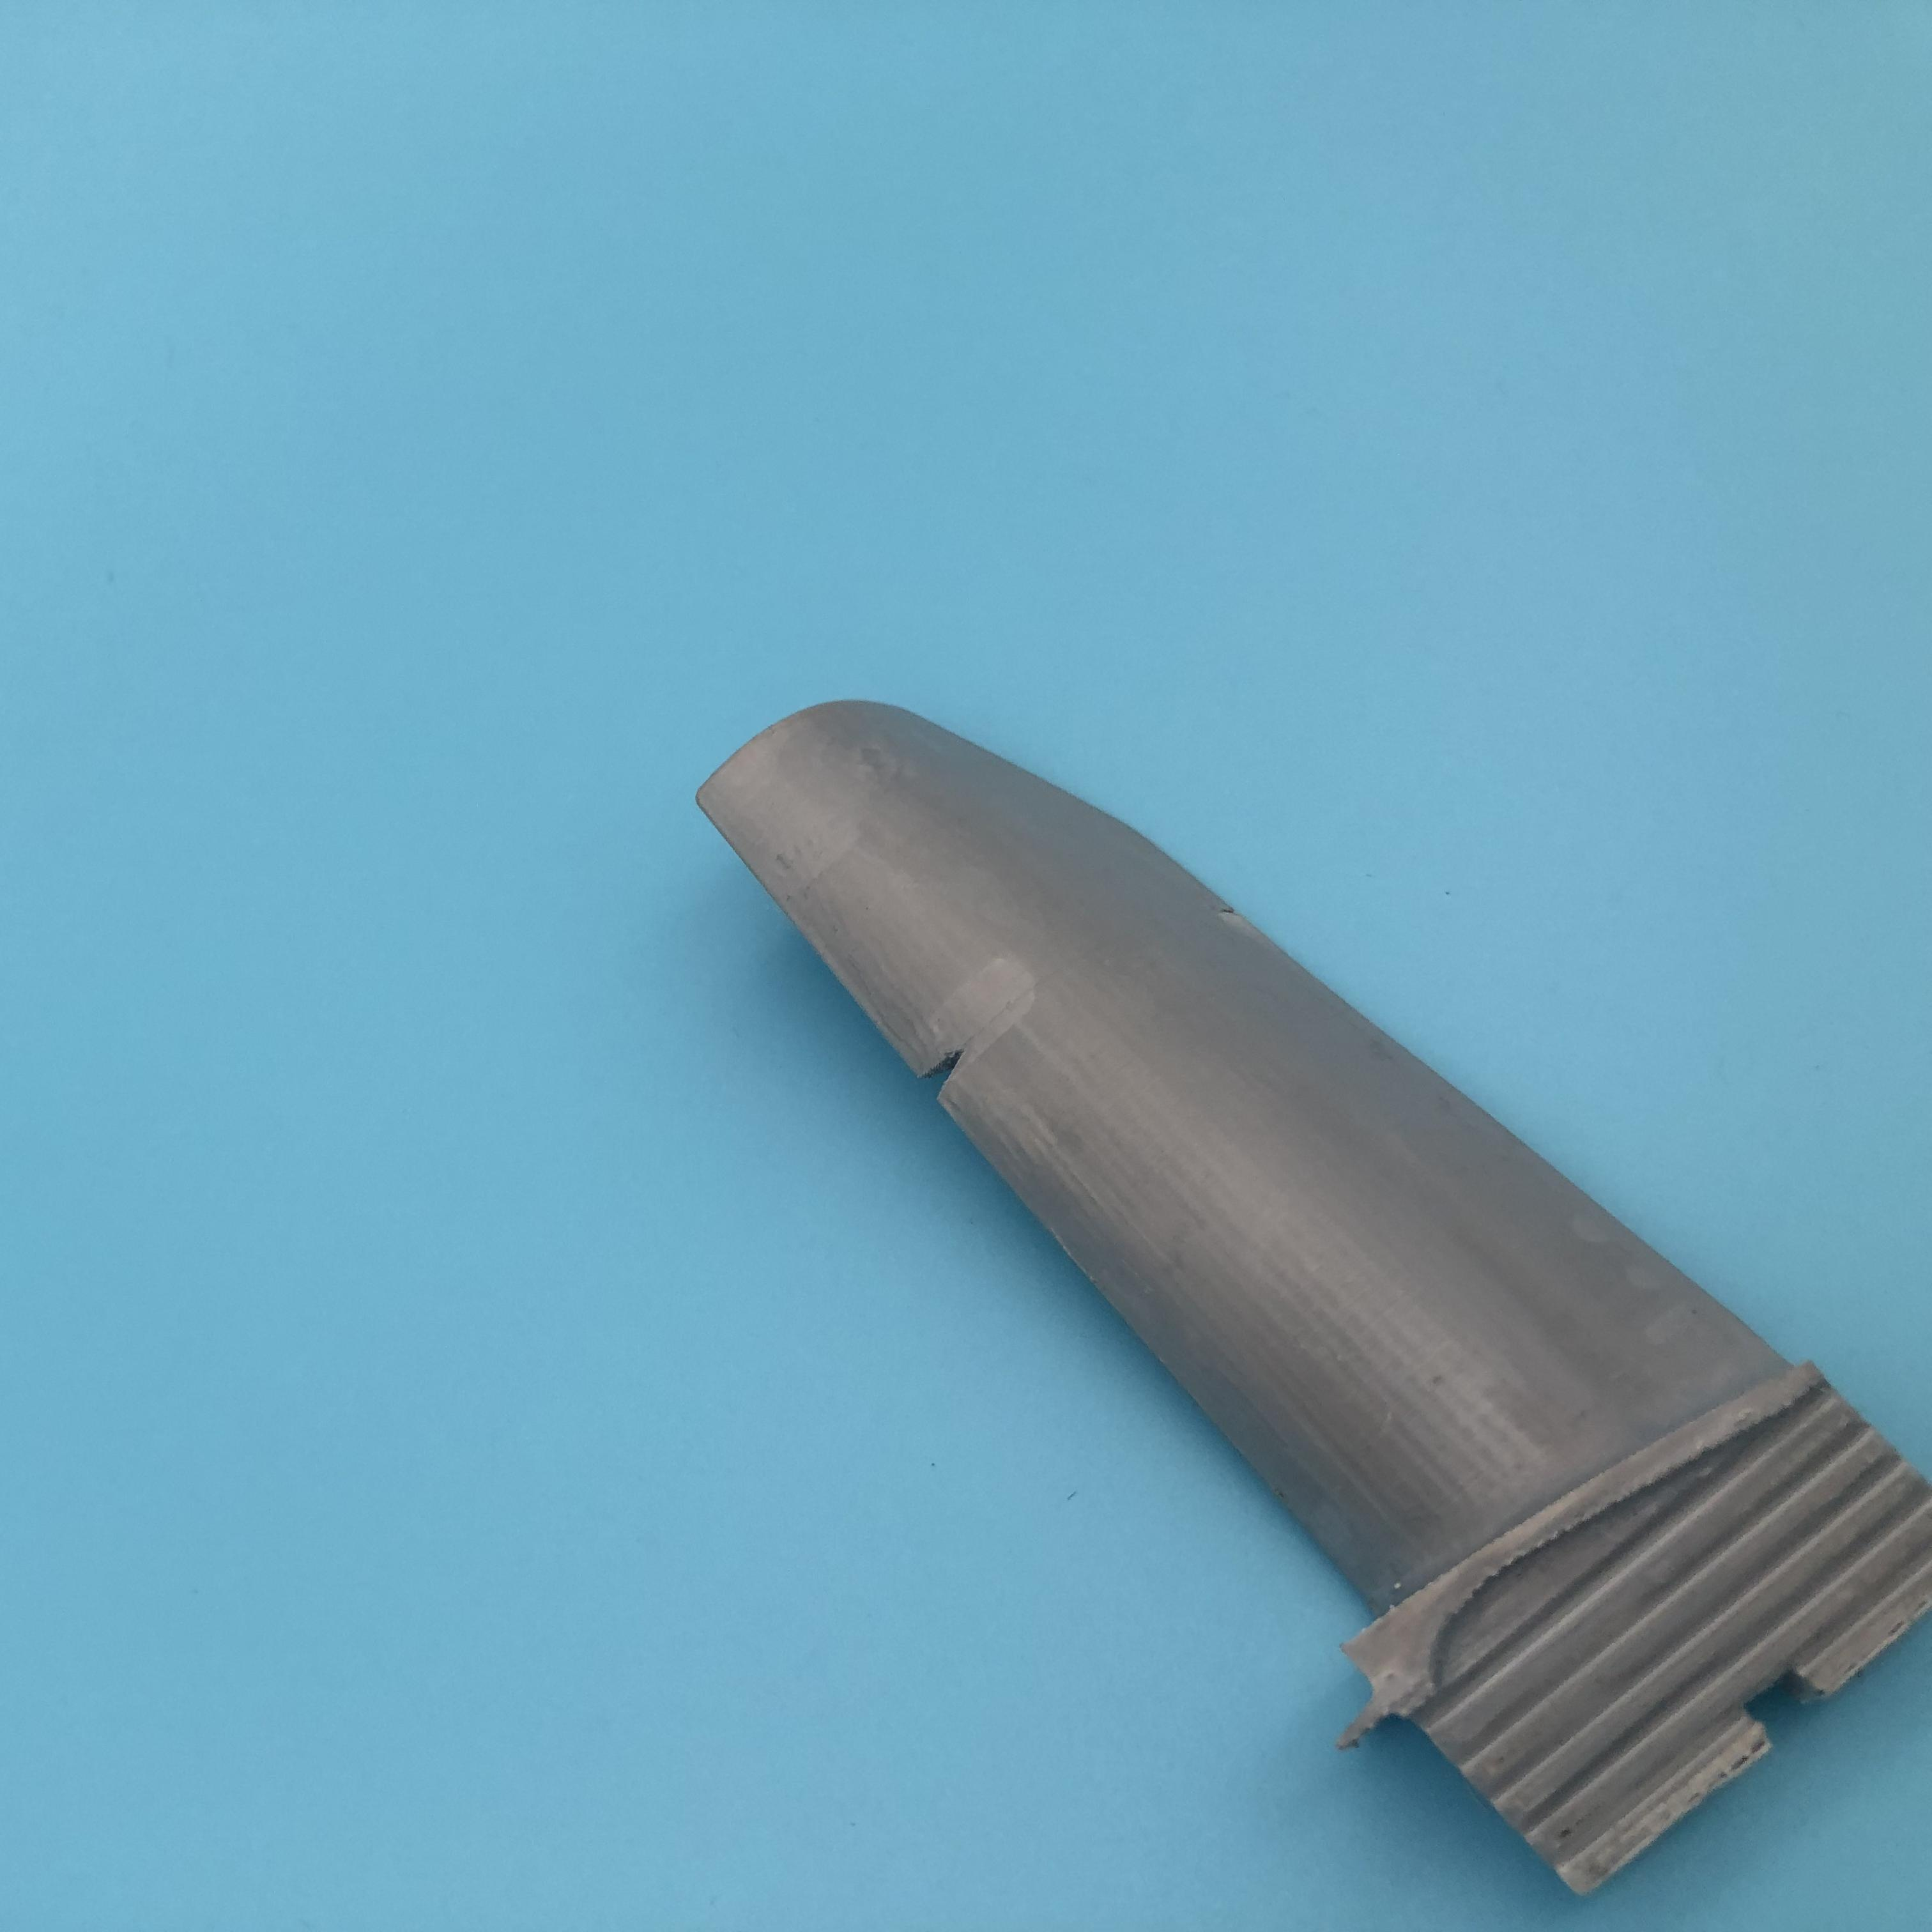groove: (920, 1049, 975, 1099), (1210, 901, 1246, 920)
